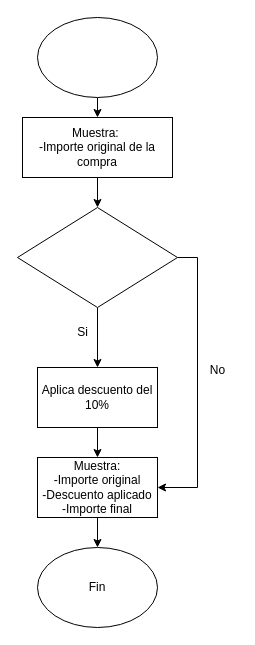
This 255x645 diagram has some shape labels left out. The shapes that lost their labels are listed below. From the top down, each one's centre as x and y in pixels, then its label:
point 97,57: Inicio
point 97,257: ¿Es superior a 100€?
